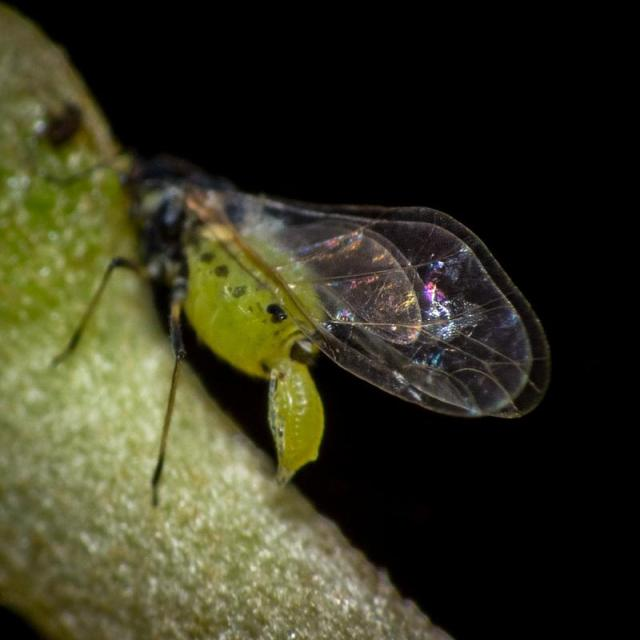Aphids: (55, 112, 558, 519)
